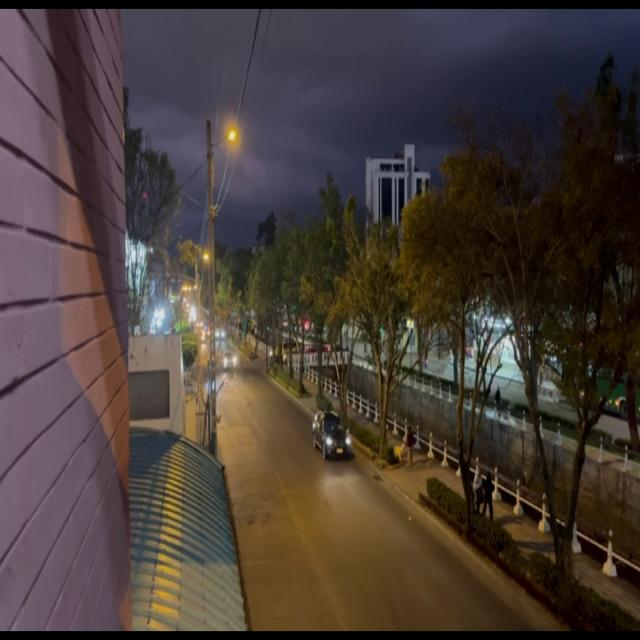SUV: (315, 409, 353, 460)
